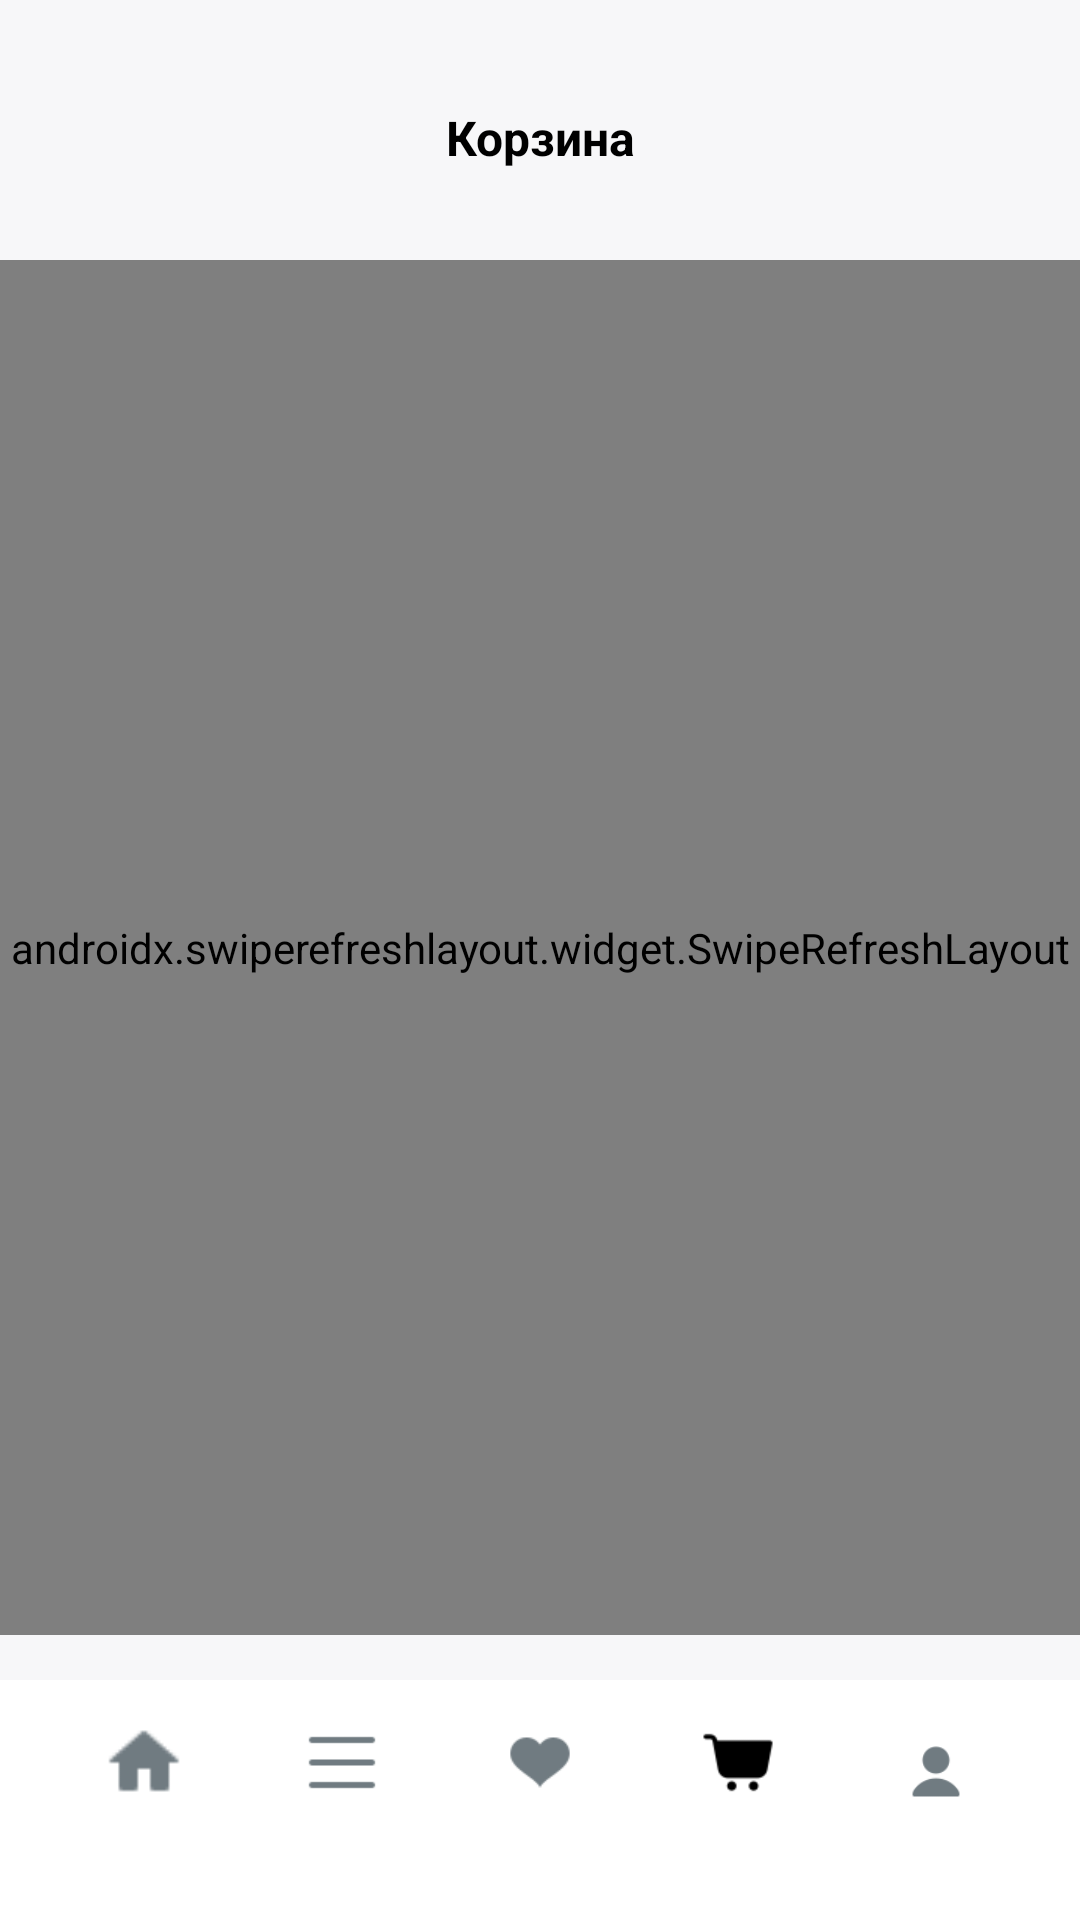

Named icons in this screenshot (1080 x 1920) and their centers, (x=x, y=y):
cart select: (x=738, y=1762)
favorite: (x=540, y=1762)
home: (x=144, y=1761)
menu: (x=342, y=1762)
person: (x=936, y=1771)
